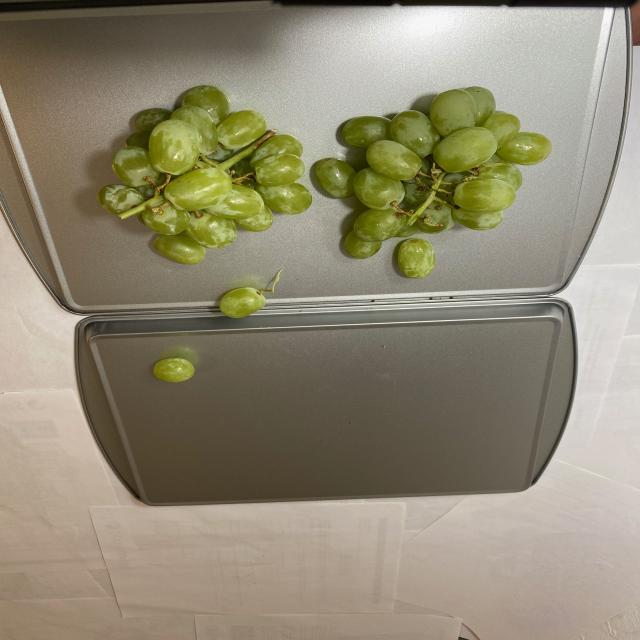grapes: (94, 80, 558, 277), (213, 280, 273, 320), (144, 356, 200, 385)
